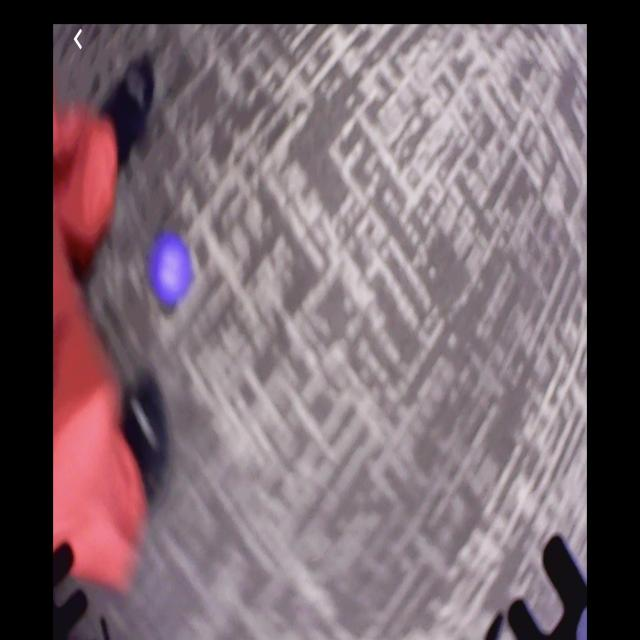ball: (151, 236, 190, 300)
